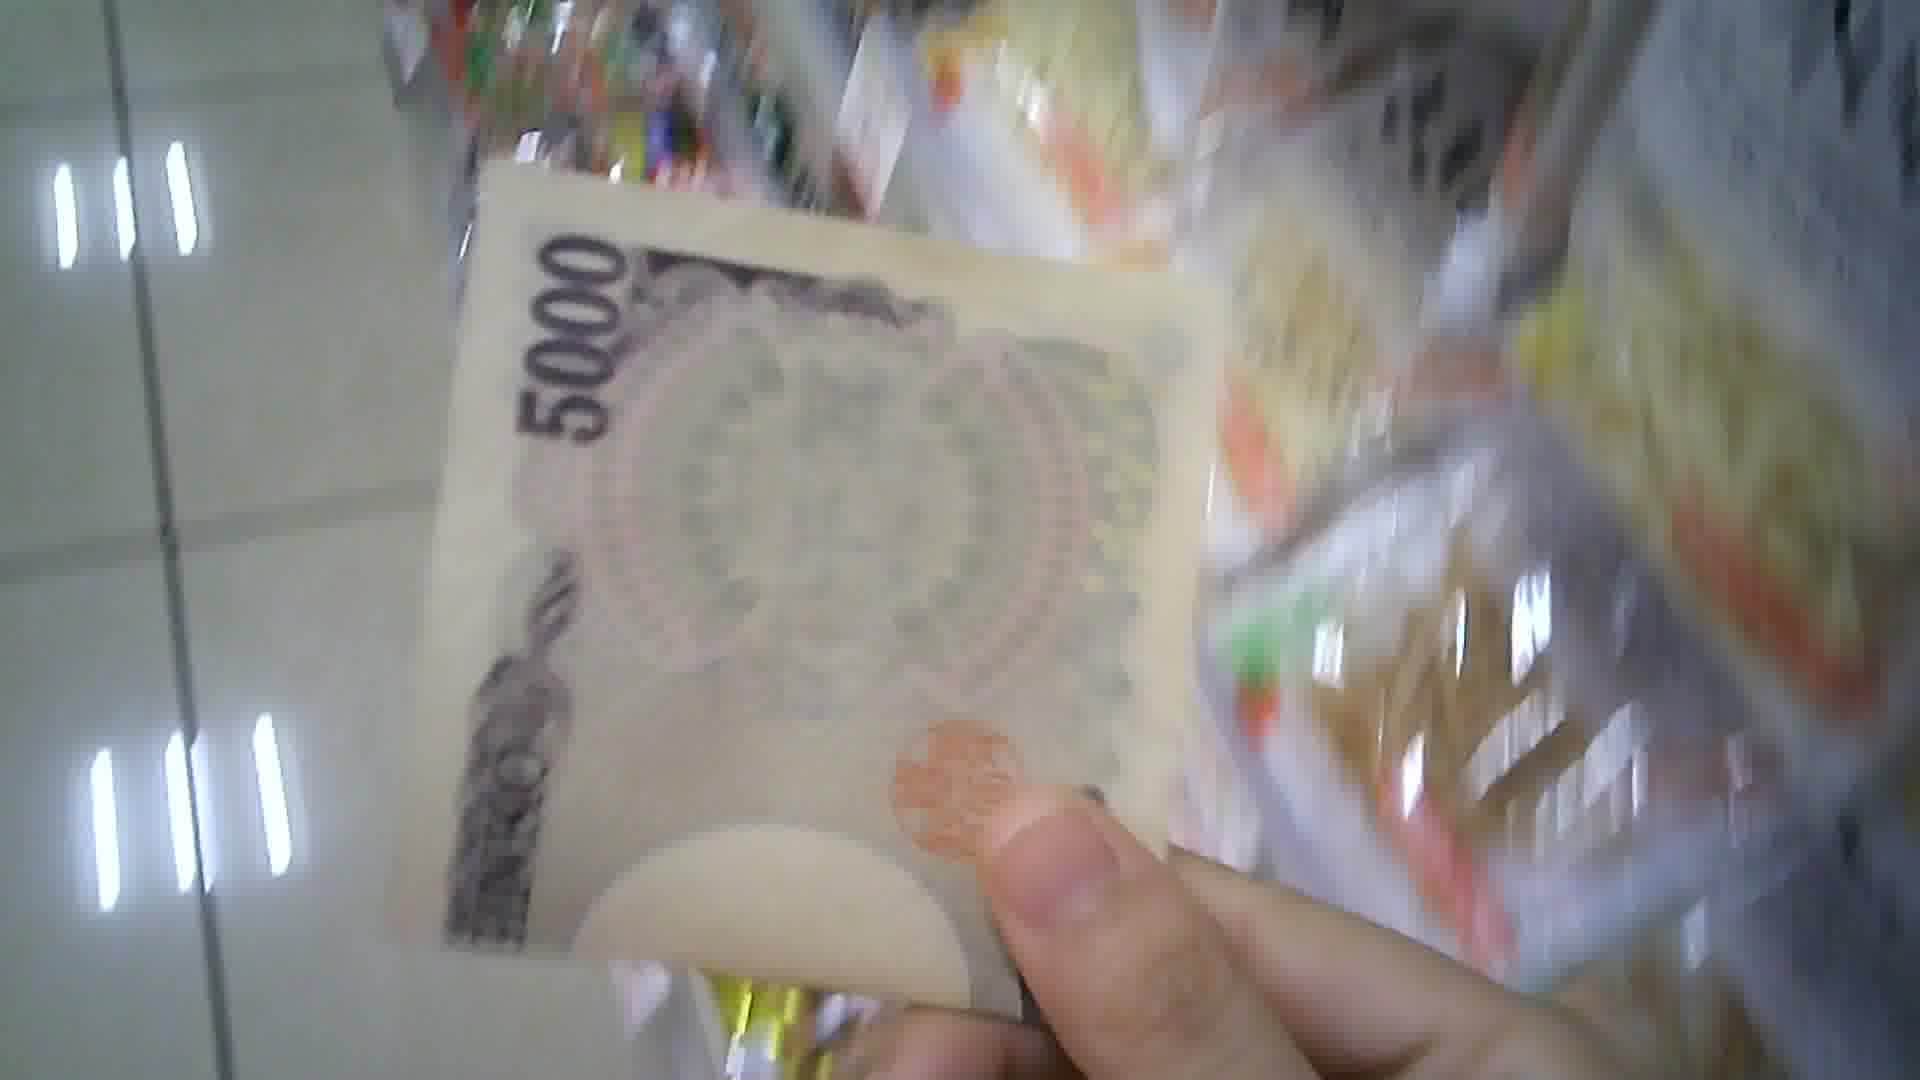5,000 Yen: (400, 146, 1245, 1040)
